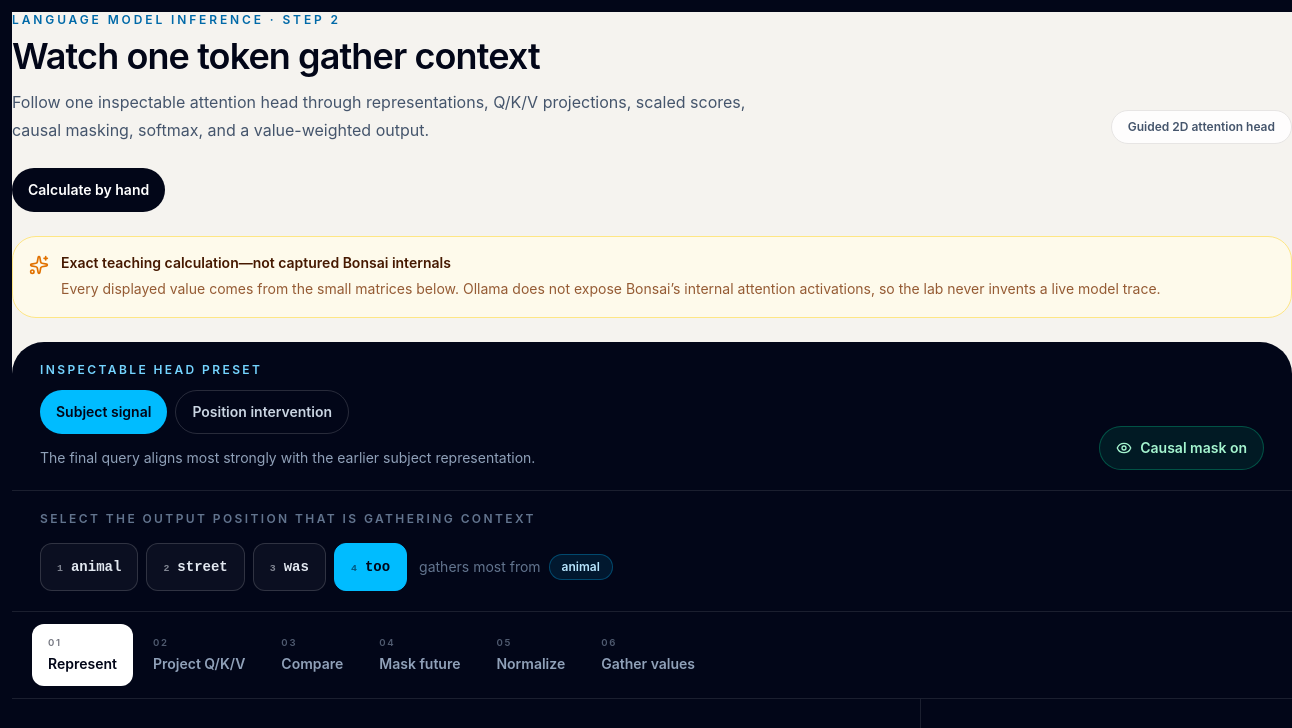
Test: AttentionLabPage › makes the position intervention change the final dominant source
Click the button with test id "attention-example-position" at (262, 412), box [175,390,349,434]
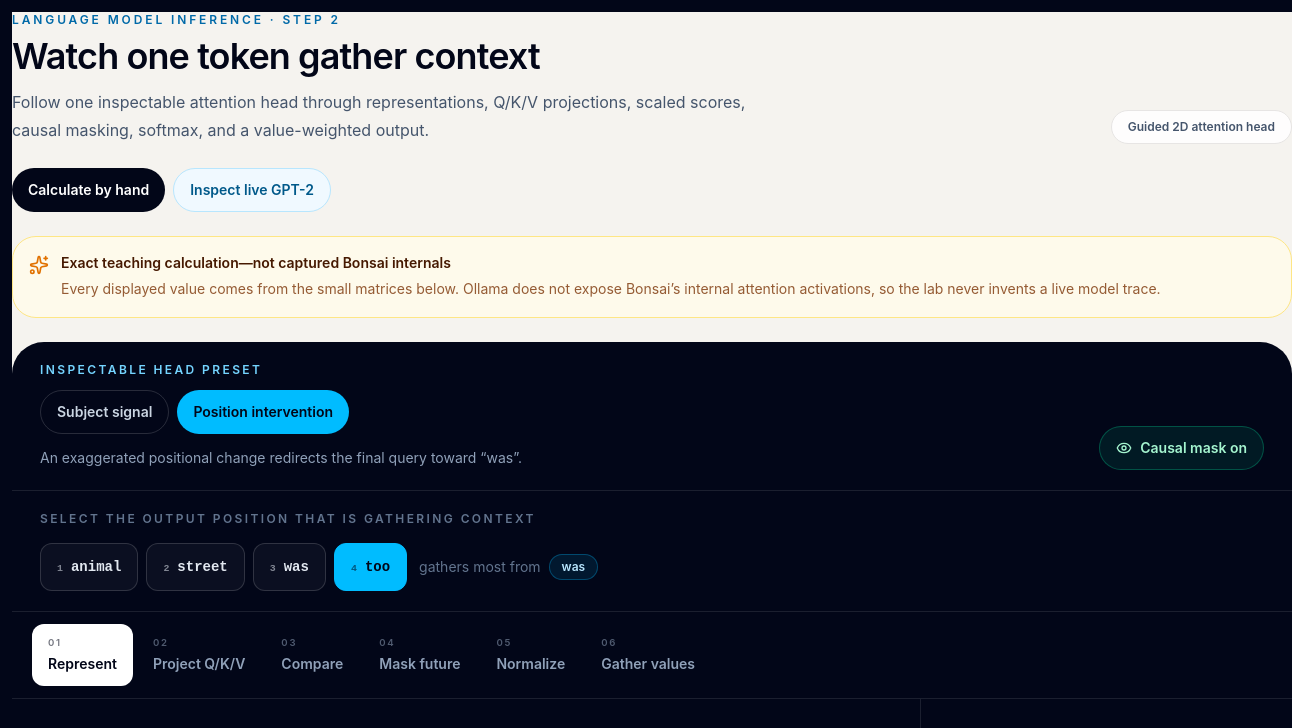
Expected: the text with test id "attention-example-description" shows "redirects", [40,449,522,466]
Expected: the text with test id "attention-dominant-token" reads "was", [562,559,585,574]
